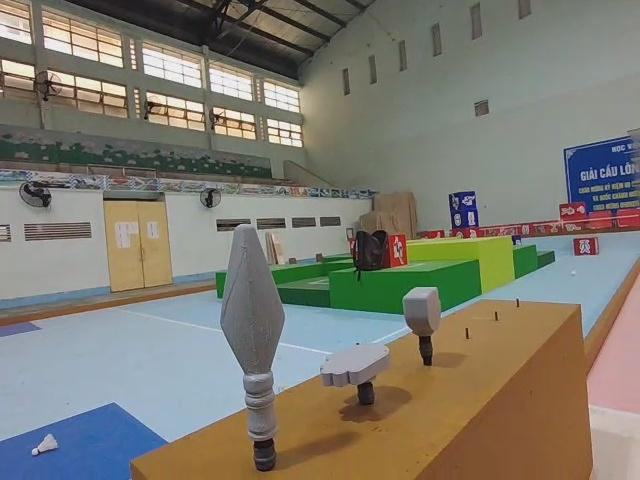Fist: (401, 284, 444, 367)
Hand: (318, 340, 390, 409)
Sph: (221, 220, 290, 470)
